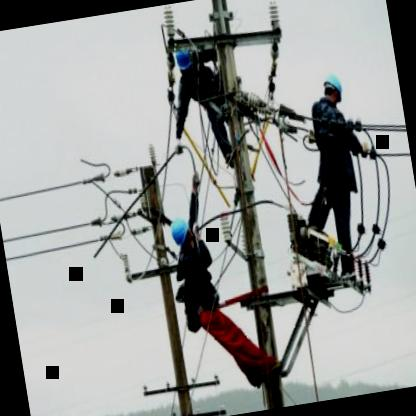helmet: (166, 37, 204, 81), (167, 212, 198, 254), (319, 70, 350, 110)
